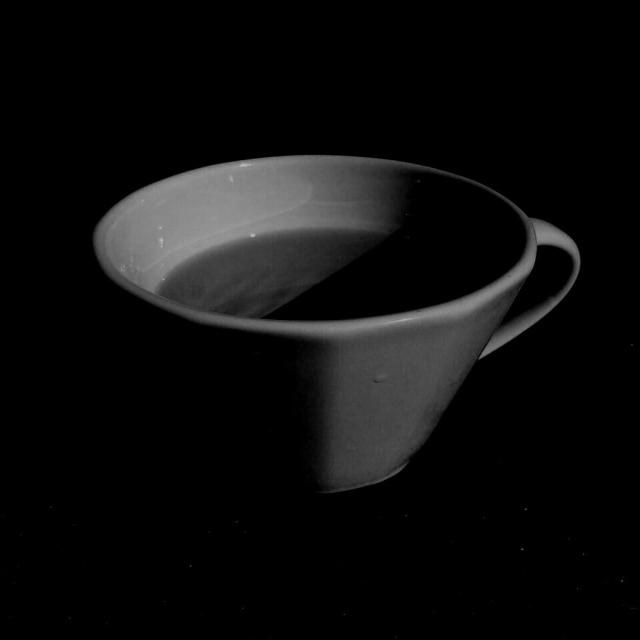Cup: (84, 139, 589, 543)
